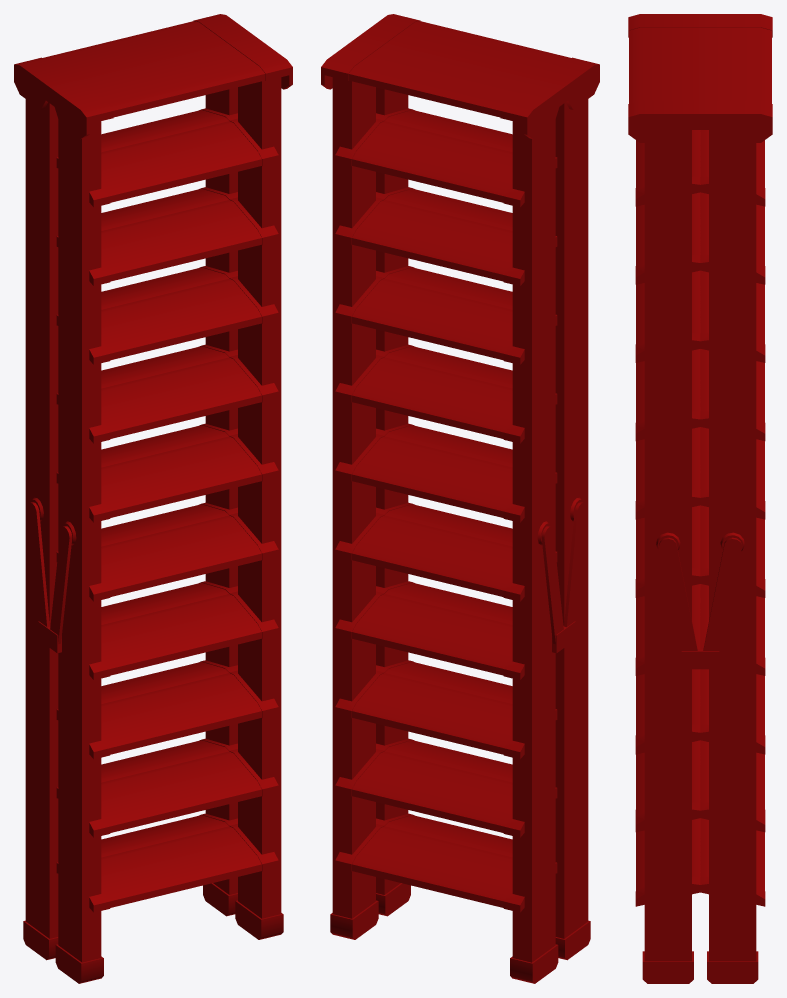
File: S_Envi_Common_Ladder_01a.gltf
3 renders of one model, left to right at view 1: azimuth 30°, elevation 25°; view 2: azimuth 150°, elevation 25°; view 3: azimuth 270°, elevation 25°, orthographic.
Parts seen in each view (by area): view 1: S_Envi_Common_Ladder_01a; view 2: S_Envi_Common_Ladder_01a; view 3: S_Envi_Common_Ladder_01a.
Part boxes in pixels (x1,y1,x2,y2): S_Envi_Common_Ladder_01a: [14, 14, 292, 983]; S_Envi_Common_Ladder_01a: [321, 14, 599, 983]; S_Envi_Common_Ladder_01a: [628, 14, 772, 983].
Size of the model in its own units: 0.7661 by 3.04 by 0.4551.
